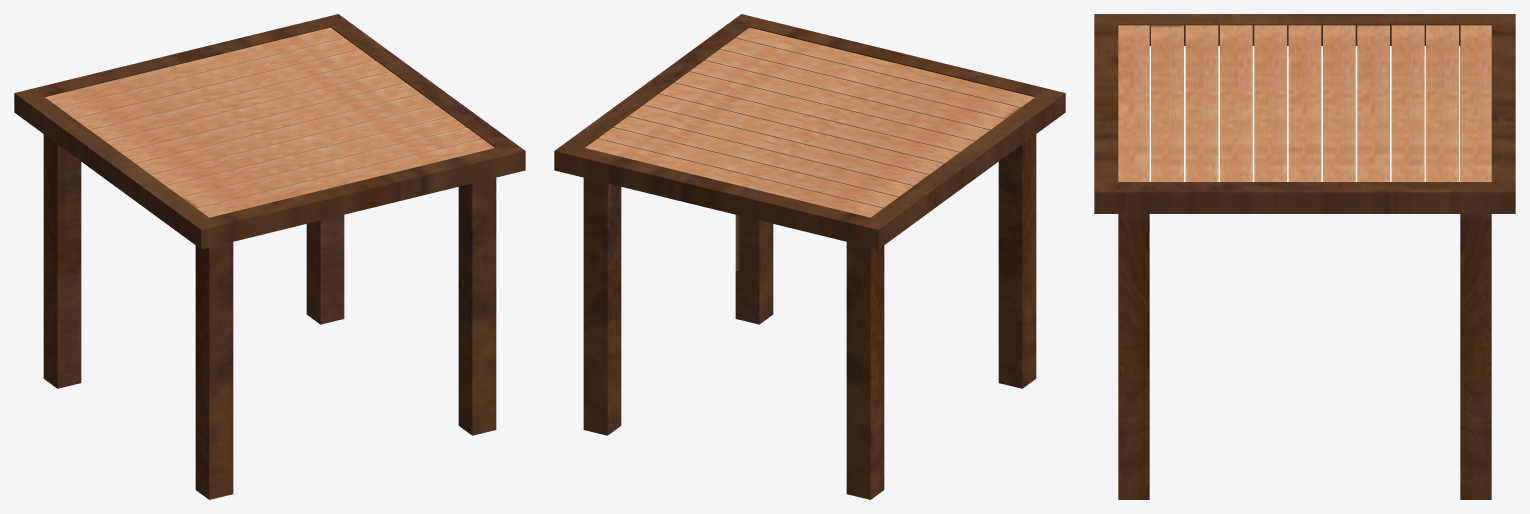
The model's file is Table_OutdoorShort.glb.
3 renders of one model, left to right at view 1: azimuth 30°, elevation 25°; view 2: azimuth 150°, elevation 25°; view 3: azimuth 270°, elevation 25°, orthographic. The views are drawn at different scales.
Visible parts, largest first — view 1: Table_OutdoorShort; view 2: Table_OutdoorShort; view 3: Table_OutdoorShort.
Part boxes in pixels (<box>): Table_OutdoorShort: <box>14,14,525,499</box>; Table_OutdoorShort: <box>554,14,1065,499</box>; Table_OutdoorShort: <box>1094,14,1515,499</box>.
Size of the model in its own units: 6.66 by 5.54 by 6.66.
1 material, 1 textured.
